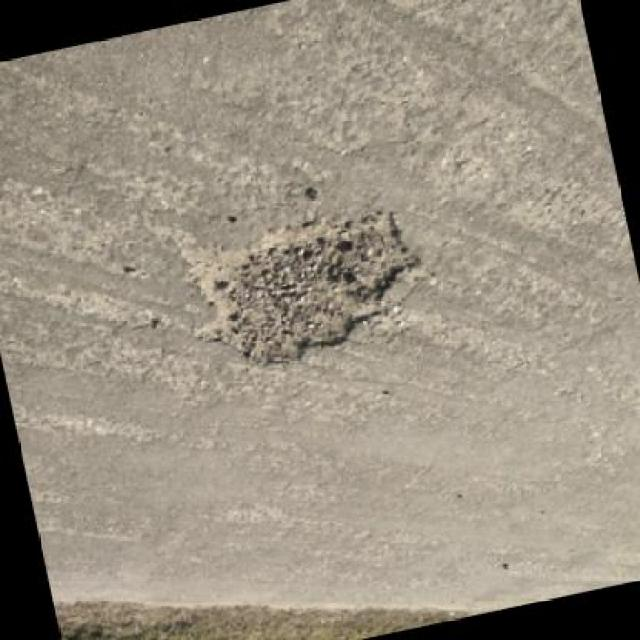pothole1: (172, 198, 438, 384)
